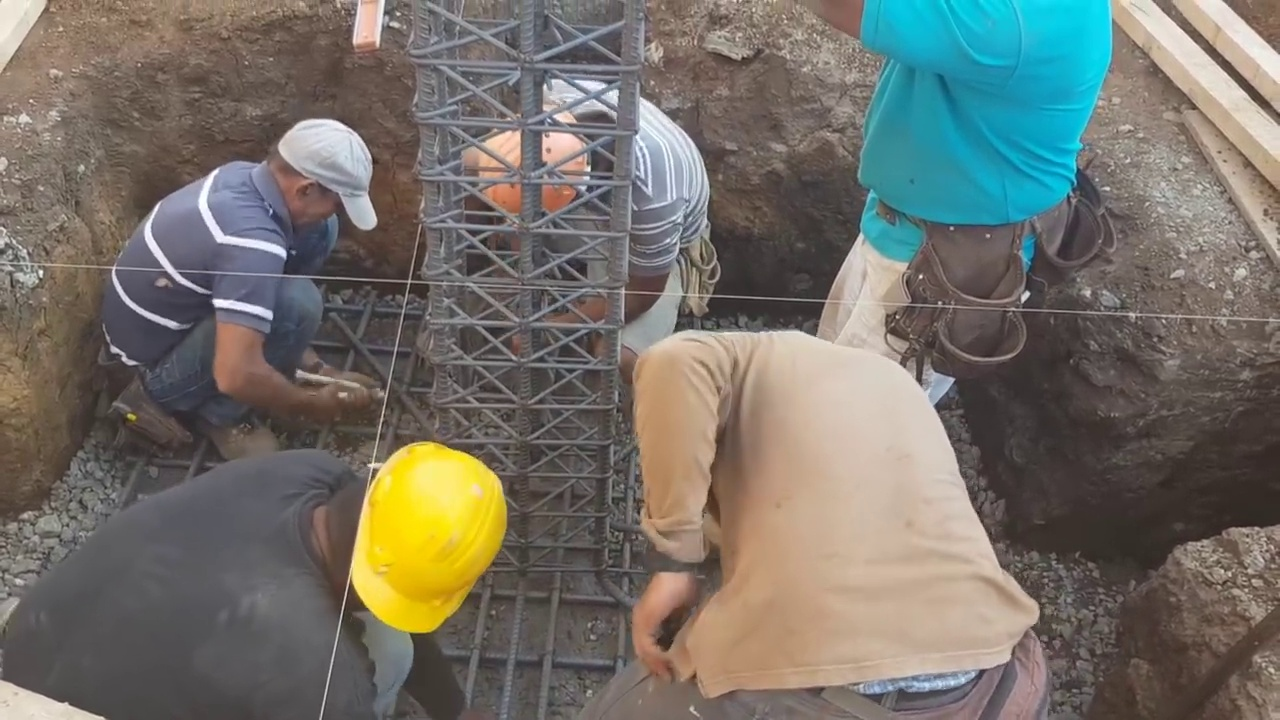helmet: (347, 446, 506, 630), (469, 111, 585, 223)
helmet-off: (266, 119, 380, 238)
helmet-on: (291, 431, 507, 636), (468, 100, 624, 231)
person: (568, 331, 1058, 714), (0, 430, 513, 718), (804, 0, 1105, 394), (109, 106, 389, 452), (462, 78, 720, 343)
